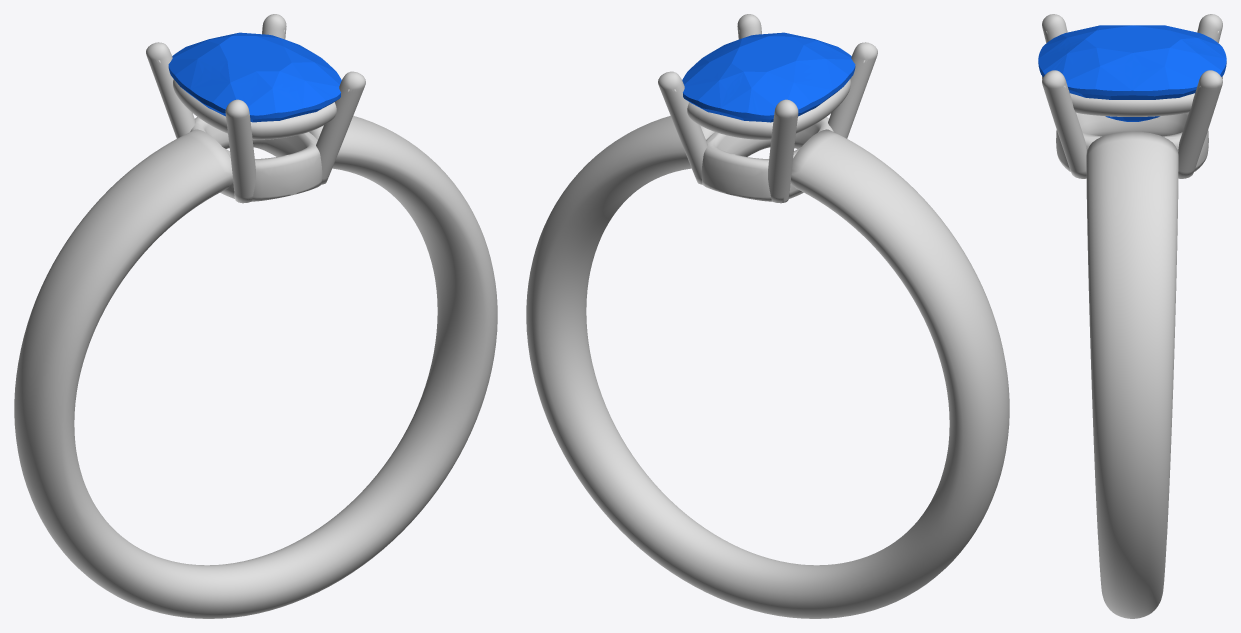
Rendered from bluesapphire-cushion-platinum-4prong-taperedband-nosidestones.glb.
The picture shows the model from 3 angles, left to right: view 1: azimuth 30°, elevation 25°; view 2: azimuth 150°, elevation 25°; view 3: azimuth 270°, elevation 25°; orthographic projection.
Parts seen in each view (by area): view 1: metal, stone; view 2: metal, stone; view 3: metal, stone.
Boxes of the visible parts, x1,y1,x2,y2 form: metal: [14, 14, 497, 618]; stone: [168, 32, 341, 122]; metal: [526, 14, 1009, 618]; stone: [682, 32, 855, 122]; metal: [1042, 14, 1222, 618]; stone: [1038, 25, 1226, 121].
Size of the model in its own units: 20.5 by 23.23 by 7.15.
